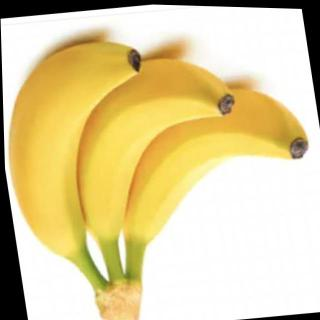banana: (51, 43, 254, 251), (94, 71, 320, 251), (0, 30, 170, 263)
